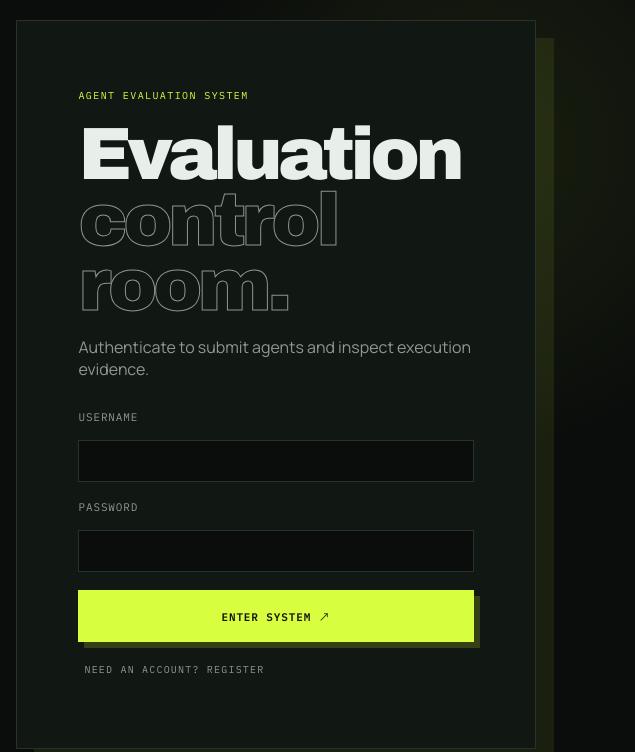
Scenario: authentication and progress UI › switches from login to account registration
expect the field labelled "EMAIL" is not shown: met
Click the button "NEED AN ACCOUNT? REGISTER" at {"x": 174, "y": 669}, box top-left (78, 662), bottom-right (270, 677)
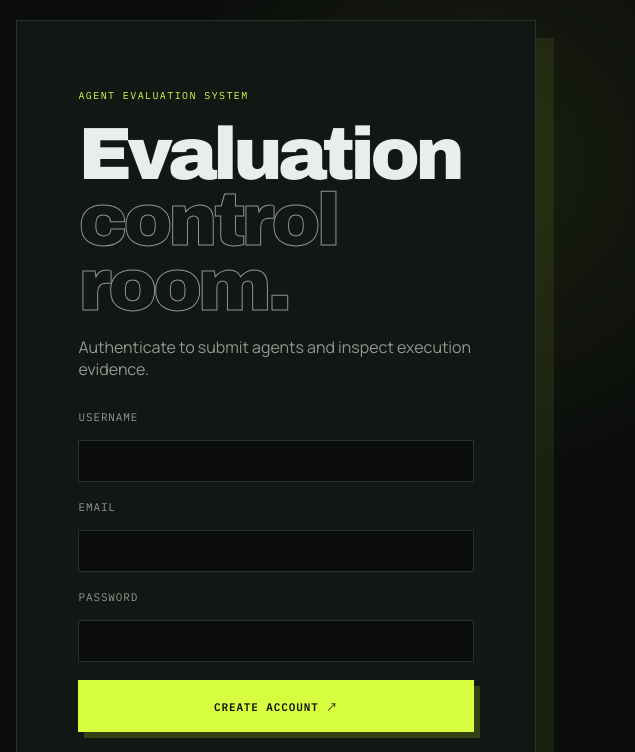
expect the button "CREATE ACCOUNT ↗" is shown: met, box top-left (78, 680), bottom-right (474, 732)
